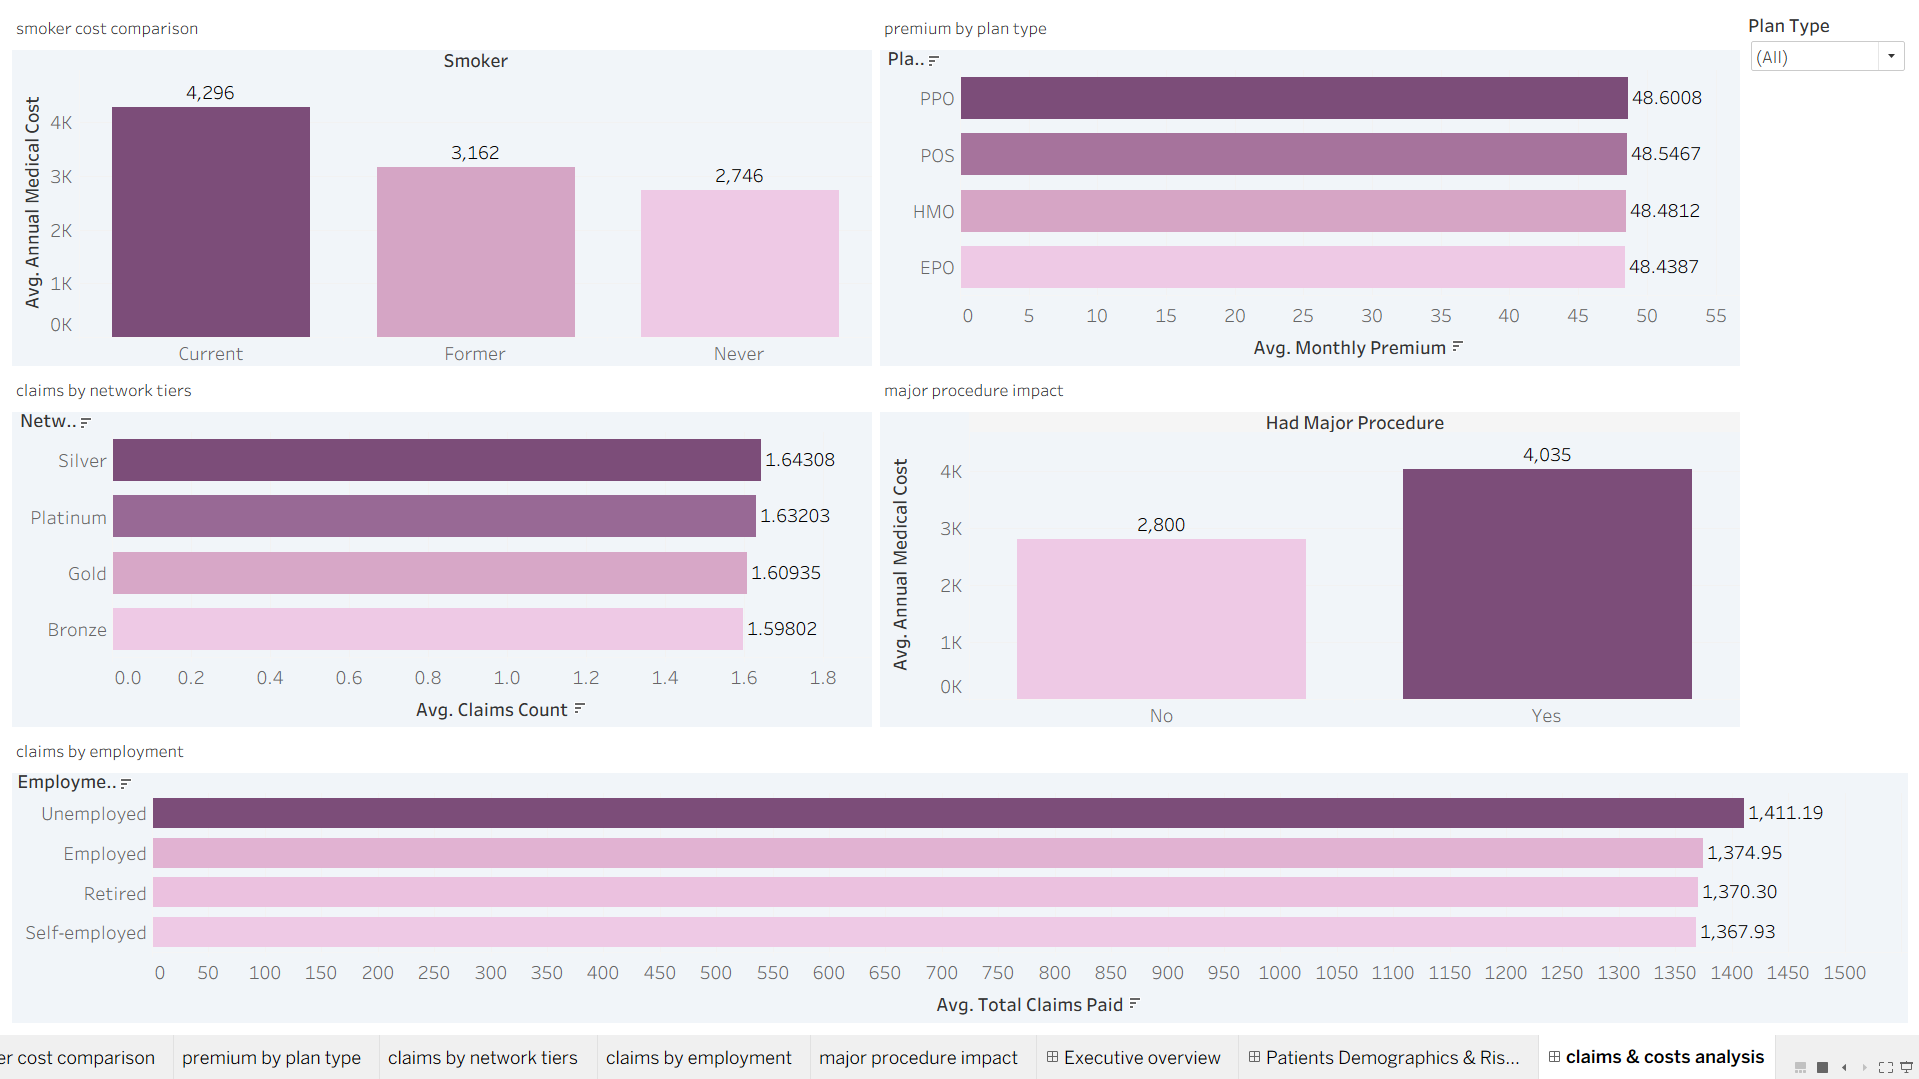

This screenshot's page, from the dashboard's own definition file:
{"tool":"tableau","page":{"name":"claims & costs analysis","canvas":[1000,1000],"units":"permille","ordinal":2},"visuals":[{"type":"worksheet","title":"smoker cost comparison","mark":"Automatic","rows":["annual_medical_cost"],"cols":["smoker"],"box":[5,9.9,442.4,347.8]},{"type":"worksheet","title":"premium by plan type","mark":"Automatic","rows":["plan_type"],"cols":["monthly_premium"],"box":[447.4,9.9,442.9,347.8]},{"type":"filter","title":"premium by plan type","param":"[federated.1tgbh72136eqzd11rrc8m03lw66y].[none:plan_type:nk]","box":[890.3,9.9,104.7,695.8]},{"type":"worksheet","title":"claims by network tiers","mark":"Automatic","rows":["network_tier"],"cols":["claims_count"],"box":[5,357.7,442.4,348.1]},{"type":"worksheet","title":"major procedure impact","mark":"Automatic","rows":["annual_medical_cost"],"cols":["had_major_procedure"],"box":[447.4,357.7,442.9,348.1]},{"type":"worksheet","title":"claims by employment","mark":"Automatic","rows":["employment_status"],"cols":["total_claims_paid"],"box":[5,705.8,990,284.3]}]}

Visuals, with their boxes on the dashboard's canvas, which has no fixed pixel size, in thousandths of its width and height (x1, y1, x2, y2). These are canvas units, not pixel positions in the 1919x1079 screenshot, which may show the page scaled, cropped or inside an application window:
"smoker cost comparison" worksheet: bbox(5, 10, 447, 358)
"premium by plan type" worksheet: bbox(447, 10, 890, 358)
"premium by plan type" filter: bbox(890, 10, 995, 706)
"claims by network tiers" worksheet: bbox(5, 358, 447, 706)
"major procedure impact" worksheet: bbox(447, 358, 890, 706)
"claims by employment" worksheet: bbox(5, 706, 995, 990)
